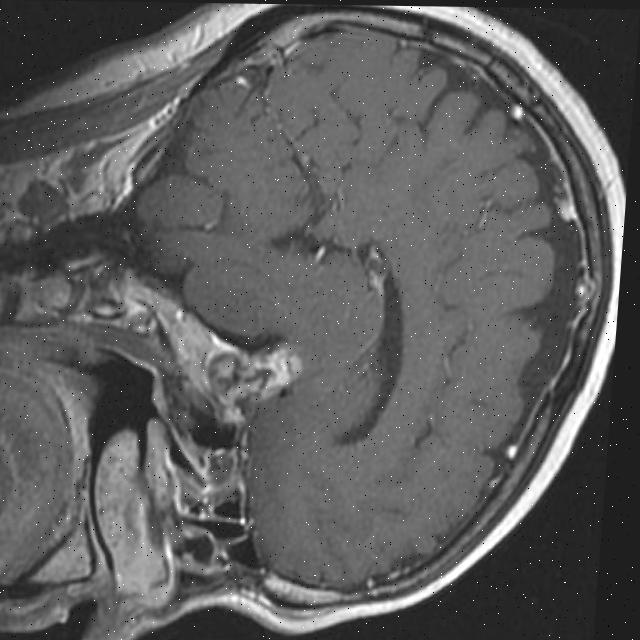Pituitary: (202, 340, 305, 403)
